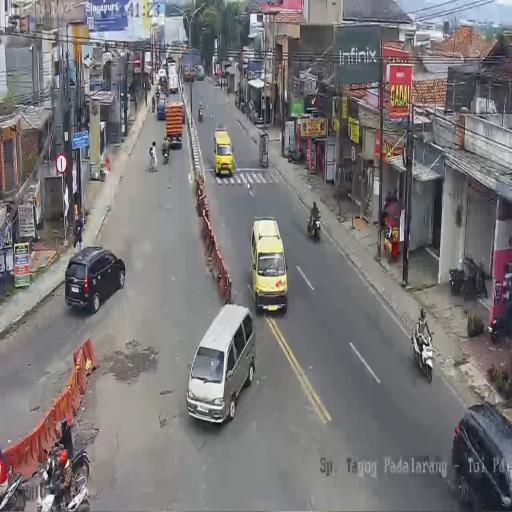car: (187, 306, 256, 423), (452, 401, 512, 509), (64, 245, 126, 312), (250, 217, 288, 313), (213, 128, 234, 178), (158, 68, 166, 86), (196, 64, 204, 80)
motorcycle: (410, 318, 434, 384), (462, 256, 486, 296), (489, 301, 512, 342), (285, 143, 302, 164), (197, 102, 204, 122), (151, 93, 156, 113), (240, 100, 245, 114)
truck: (165, 101, 184, 148), (182, 50, 199, 82), (168, 68, 178, 95)
